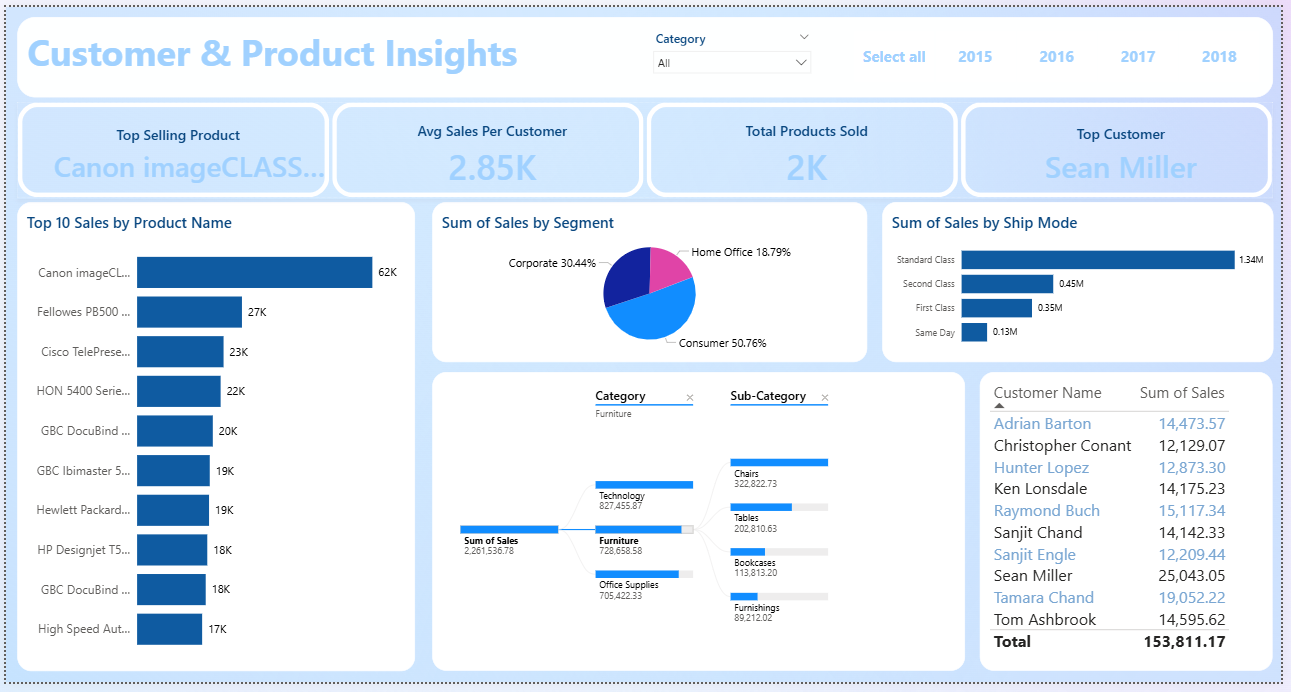

What the dashboard file says about the page in this screenshot:
{"tool":"powerbi","page":{"name":"Customer/Product Insight","canvas":[1700,900],"ordinal":1},"visuals":[{"type":"barChart","title":"Top 10 Sales by Product Name","fields":{"Category":["train.Product Name"],"Y":["train.Sales"]},"box":[15.7,260,530,625.7],"z":0},{"type":"decompositionTreeVisual","fields":{"ExplainBy":["train.Category","train.Sub-Category"],"Analyze":["train.Sales"]},"box":[568.3,486.7,710,398.3],"z":1000},{"type":"pieChart","fields":{"Category":["train.Segment"],"Y":["train.Sales"]},"box":[568.3,260,580,213.3],"z":2000},{"type":"cardVisual","fields":{"Data":["train.Top Selling Product","train.Avg Sales Per Customer","train.Total Products Sold","train.Top Customer"]},"box":[15.7,127.1,1674.3,128.6],"z":3000},{"type":"tableEx","fields":{"Values":["train.Customer Name","train.Sales"]},"box":[1298.3,486.7,390,398.3],"z":4000},{"type":"textbox","box":[15.7,12.9,1674.3,107.1],"z":5000},{"type":"slicer","fields":{"Values":["train.Category"]},"box":[858.6,30,220,72.9],"z":6000},{"type":"barChart","fields":{"Category":["train.Ship Mode"],"Y":["train.Sales"]},"box":[1168.3,260,521.7,213.3],"z":7000},{"type":"slicer","fields":{"Values":["train.OrderedDate.Variation.Date Hierarchy.Year"]},"box":[1110,30,580,71.4],"z":8000}]}

Visuals, with their boxes in screenshot pixels (x1, y1, x2, y2), scaled from the page's 1700x900 canvas onto the 1291x692 screenshot:
"Top 10 Sales by Product Name" barChart: [left=12, top=200, right=414, bottom=681]
decompositionTreeVisual - train.Category x train.Sub-Category: [left=432, top=374, right=971, bottom=680]
pieChart - train.Segment x train.Sales: [left=432, top=200, right=872, bottom=364]
cardVisual - train.Top Selling Product x train.Avg Sales Per Customer: [left=12, top=98, right=1283, bottom=197]
tableEx - train.Customer Name x train.Sales: [left=986, top=374, right=1282, bottom=680]
textbox: [left=12, top=10, right=1283, bottom=92]
slicer - train.Category: [left=652, top=23, right=819, bottom=79]
barChart - train.Ship Mode x train.Sales: [left=887, top=200, right=1283, bottom=364]
slicer - train.OrderedDate.Variation.Date Hierarchy.Year: [left=843, top=23, right=1283, bottom=78]
